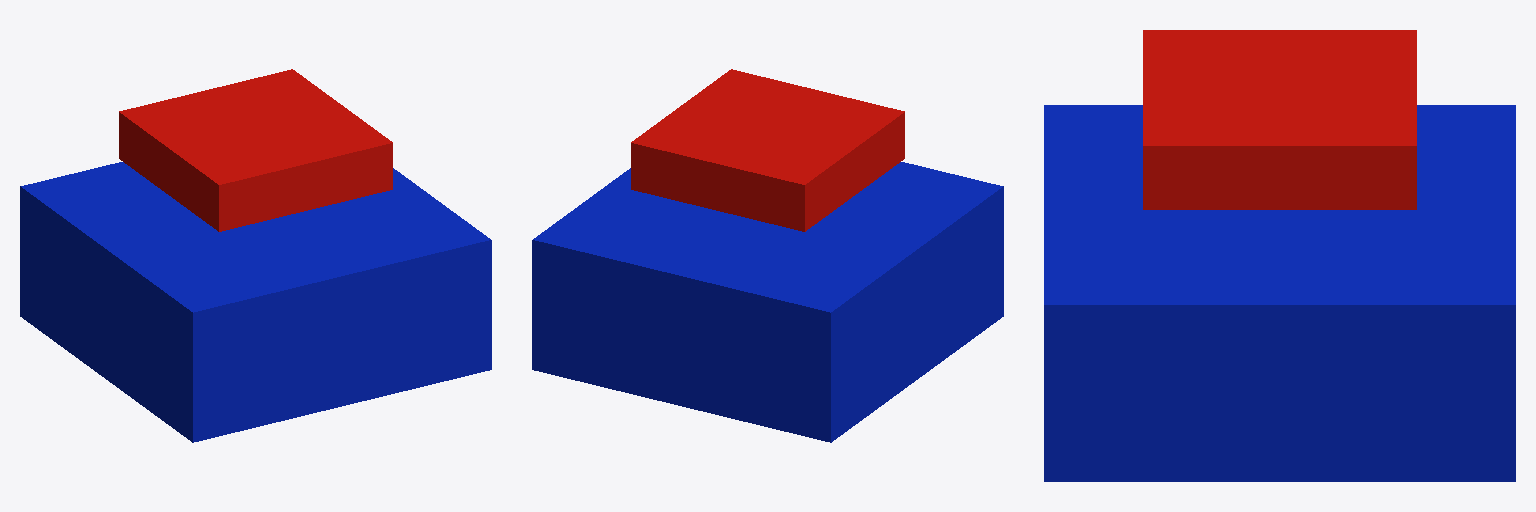
URDF robot description (single_press_button):
<?xml version="1.0"?>
<robot name="single_press_button">
  <link name="button_base">
    <visual><geometry><box size="0.12 0.12 0.05"/></geometry><material name="blue"><color rgba="0.08 0.22 0.8 1"/></material></visual>
    <collision><geometry><box size="0.12 0.12 0.05"/></geometry></collision>
  </link>
  <link name="button_cap">
    <inertial><mass value="0.05"/><inertia ixx="0.000014" ixy="0" ixz="0" iyy="0.000014" iyz="0" izz="0.00002"/></inertial>
    <visual><geometry><box size="0.07 0.07 0.018"/></geometry><material name="red"><color rgba="0.85 0.12 0.08 1"/></material></visual>
    <collision><geometry><box size="0.07 0.07 0.018"/></geometry></collision>
  </link>
  <joint name="press" type="prismatic">
    <parent link="button_base"/><child link="button_cap"/>
    <origin xyz="0 0 0.049"/><axis xyz="0 0 1"/>
    <limit lower="-0.018" upper="0" effort="30" velocity="0.5"/>
    <dynamics damping="10" friction="0"/>
  </joint>
</robot>

--- Render facts (derived) ---
The picture shows the robot from 3 angles, left to right: view 1: azimuth 30°, elevation 25°; view 2: azimuth 150°, elevation 25°; view 3: azimuth 270°, elevation 25°; orthographic projection.
Model single_press_button with 2 links and 1 joints (1 prismatic), rooted at button_base, posed all joints at 0.
Links seen in each view (by area): view 1: button_base, button_cap; view 2: button_base, button_cap; view 3: button_base, button_cap.
Link boxes in pixels (bbox=[...]): button_base: bbox=[20, 162, 491, 442]; button_cap: bbox=[119, 69, 392, 231]; button_base: bbox=[532, 162, 1003, 442]; button_cap: bbox=[631, 69, 904, 231]; button_base: bbox=[1044, 105, 1515, 481]; button_cap: bbox=[1143, 30, 1416, 209].
Bounding box of the posed robot: 0.12 × 0.12 × 0.083 m (x, y, z).
Geometry: primitives only (box / cylinder / sphere), no mesh files.
